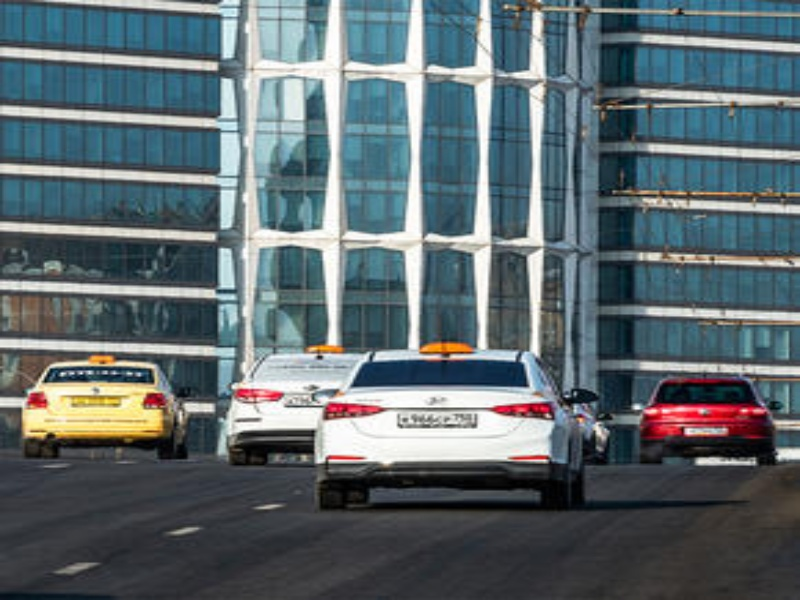car: (312, 342, 601, 504), (22, 355, 192, 460), (226, 346, 365, 465), (640, 374, 784, 464)
plate: (397, 412, 476, 427), (285, 395, 324, 409), (71, 395, 119, 403), (685, 427, 728, 434)
